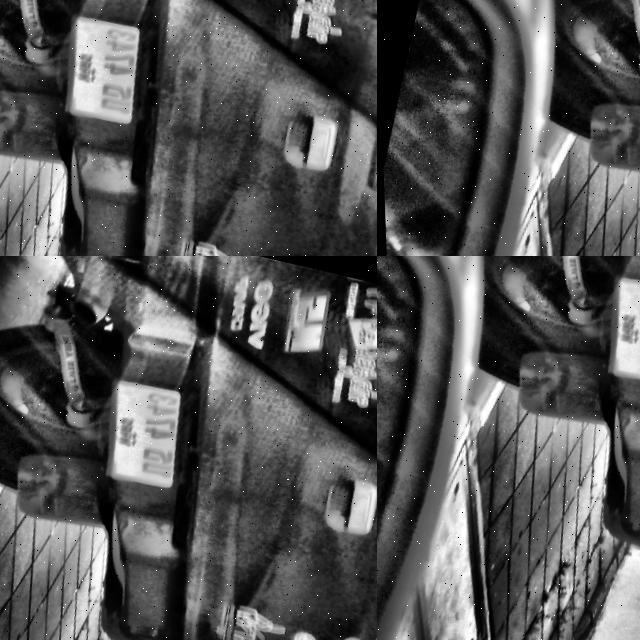license-plate: (587, 266, 640, 393)
